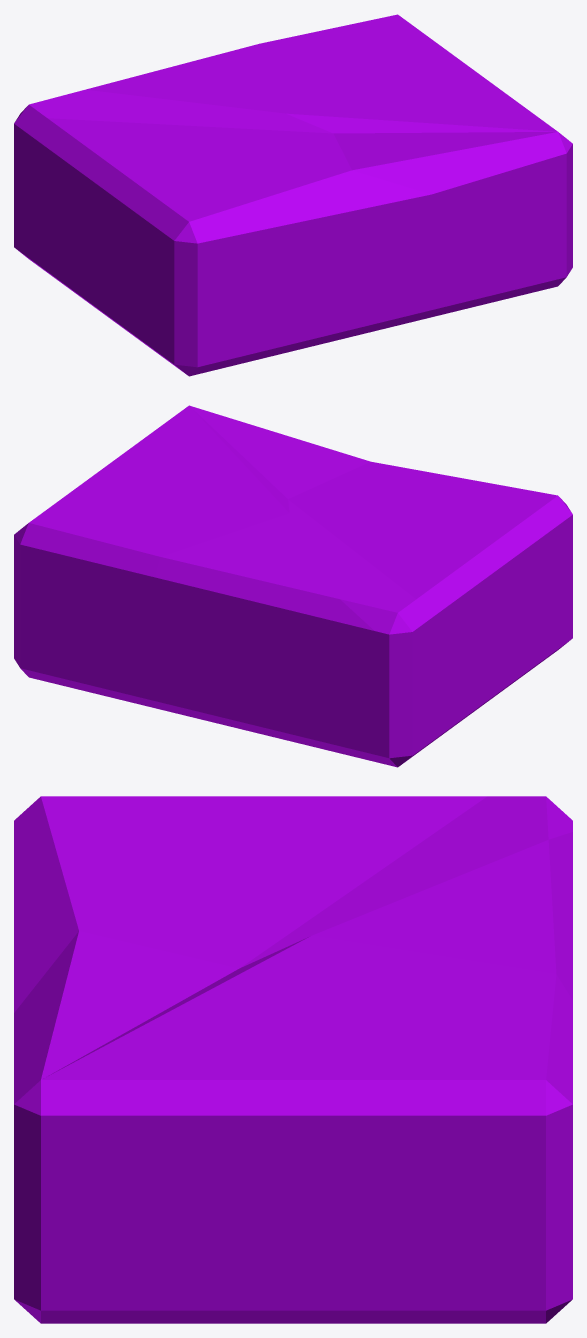
File: Purple_Ingot.fbx
3 renders of one model, top to bottom at view 1: azimuth 30°, elevation 25°; view 2: azimuth 150°, elevation 25°; view 3: azimuth 270°, elevation 25°, orthographic. The views are drawn at different scales.
Parts seen in each view (by area): view 1: Purple_Ingot; view 2: Purple_Ingot; view 3: Purple_Ingot.
Boxes of the visible parts, x1,y1,x2,y2 form: Purple_Ingot: [14, 14, 572, 376]; Purple_Ingot: [14, 405, 572, 767]; Purple_Ingot: [14, 796, 572, 1323].
Bounding box in the file's own units: 18.97 × 7.09 × 14.62.
